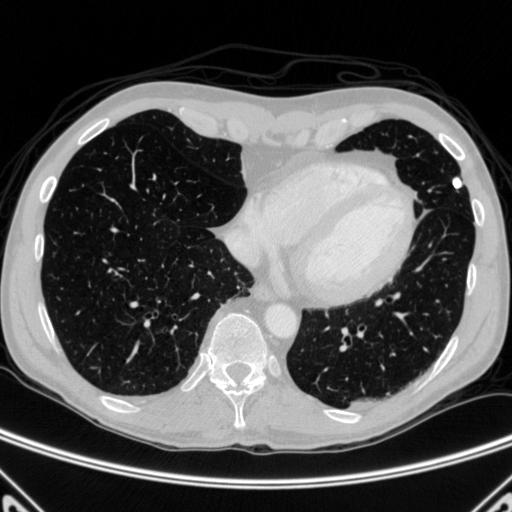nodule: (449, 176, 464, 191)
